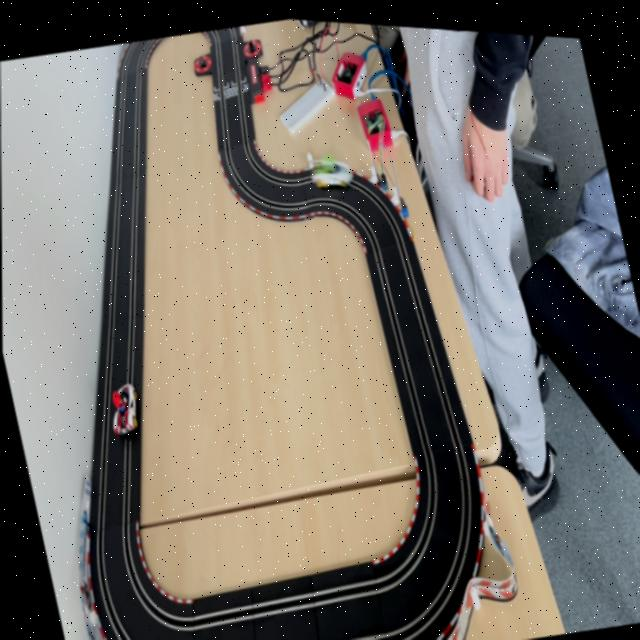mario: (102, 373, 146, 440)
yoshi: (303, 140, 357, 190)
